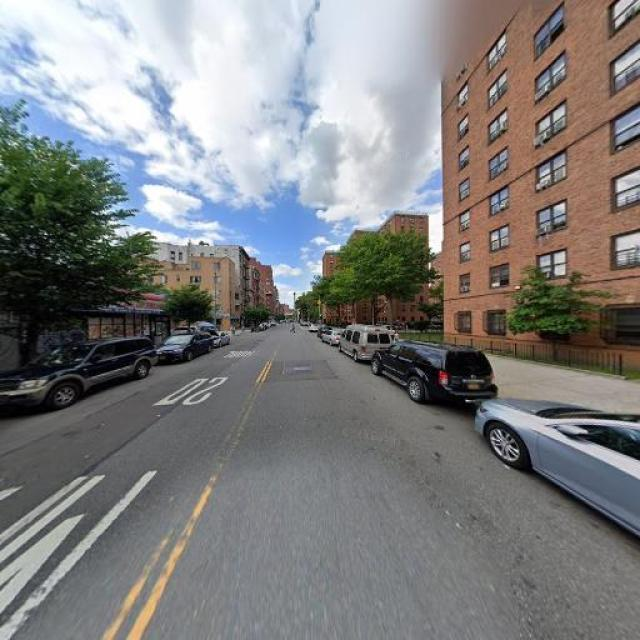Building: (444, 1, 640, 377), (1, 270, 69, 369)
